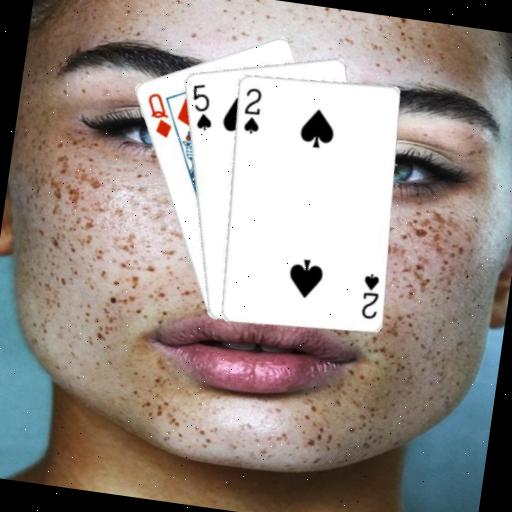2S: (238, 84, 266, 137), (356, 269, 384, 322)
5S: (184, 79, 219, 133)
QD: (139, 88, 178, 141)
